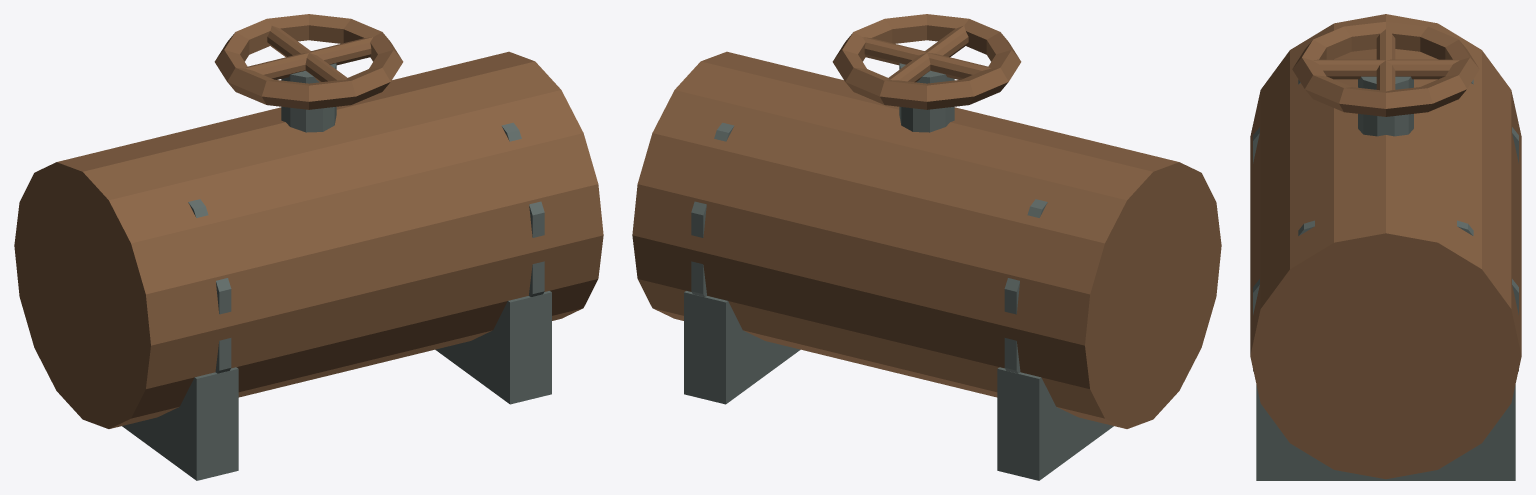
Rendered from v2_oil_tank.glb.
3 renders of one model, left to right at view 1: azimuth 30°, elevation 25°; view 2: azimuth 150°, elevation 25°; view 3: azimuth 270°, elevation 25°, orthographic.
Parts seen in each view (by area): view 1: Cylinder; view 2: Cylinder; view 3: Cylinder.
Part boxes in pixels (bbox=[...]): Cylinder: bbox=[14, 14, 603, 480]; Cylinder: bbox=[632, 14, 1221, 480]; Cylinder: bbox=[1250, 14, 1521, 480].
Bounding box in the file's own units: 1.67 × 1.2 × 0.8714.
